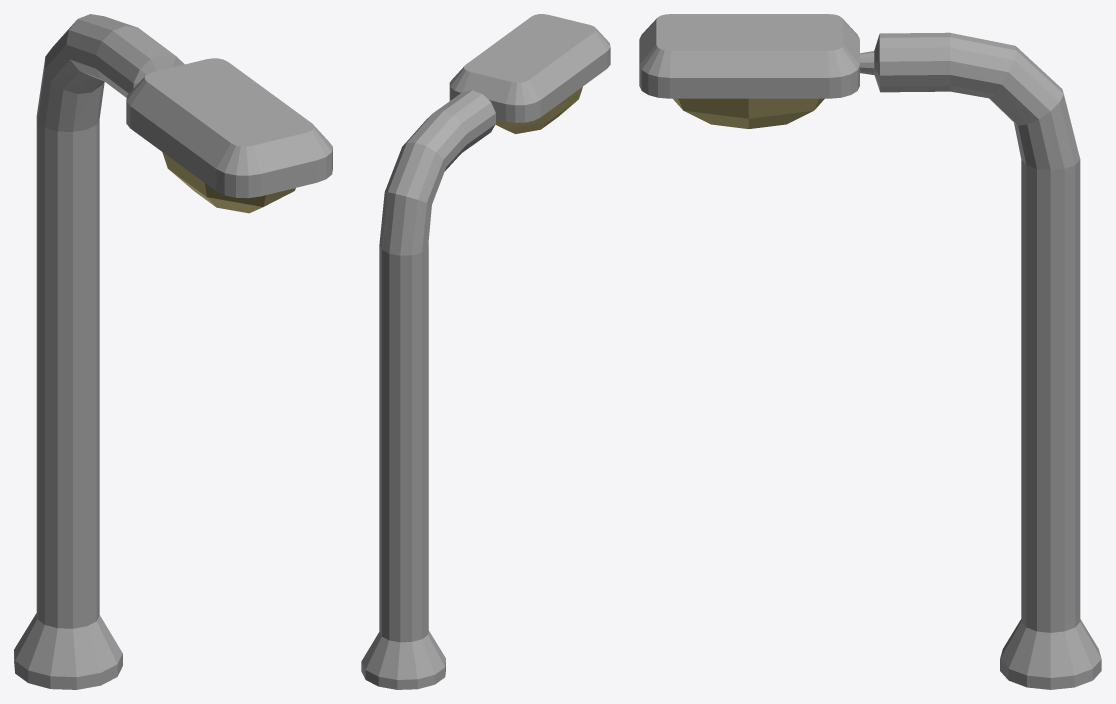
Rendered from Lamp post.fbx.
3 views of the same model, side by side, from view 1: azimuth 30°, elevation 25°; view 2: azimuth 150°, elevation 25°; view 3: azimuth 270°, elevation 25° (orthographic). The views are drawn at different scales.
Parts seen in each view (by area): view 1: pSphere2; view 2: pSphere2; view 3: pSphere2.
Boxes of the visible parts, x1,y1,x2,y2 form: pSphere2: (14, 14, 332, 689); pSphere2: (361, 14, 610, 689); pSphere2: (639, 14, 1101, 689).
Size of the model in its own units: 4.29 by 24.88 by 16.39.
